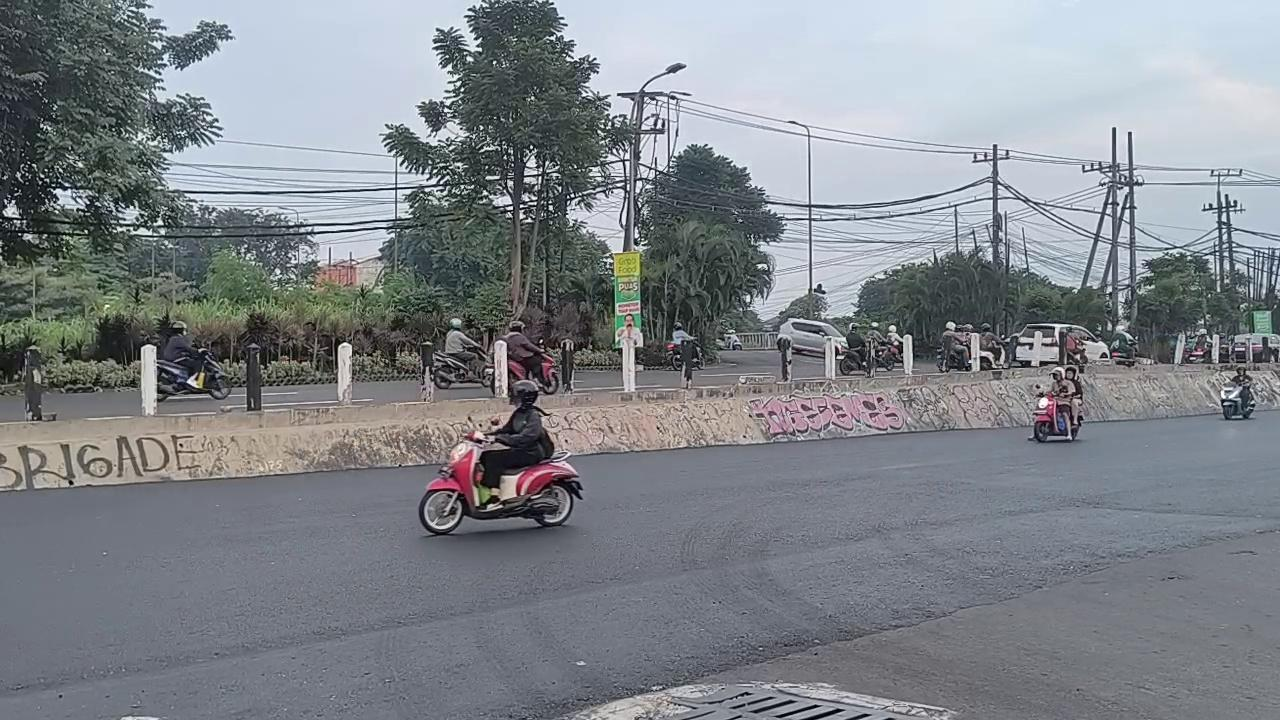Helmet: (479, 380, 553, 509), (161, 321, 203, 389), (503, 320, 549, 381), (444, 318, 484, 376), (1051, 367, 1081, 426), (941, 321, 968, 367), (980, 323, 1003, 364), (845, 322, 865, 367), (1231, 365, 1252, 405), (671, 322, 692, 346), (866, 322, 883, 344), (886, 324, 902, 347)
Motor: (419, 431, 581, 534), (157, 348, 231, 400), (1033, 393, 1079, 441), (507, 355, 560, 394), (432, 352, 484, 389), (1220, 385, 1255, 419), (838, 350, 872, 376), (937, 349, 969, 372), (875, 341, 900, 370), (1110, 343, 1136, 366), (666, 342, 683, 370)
